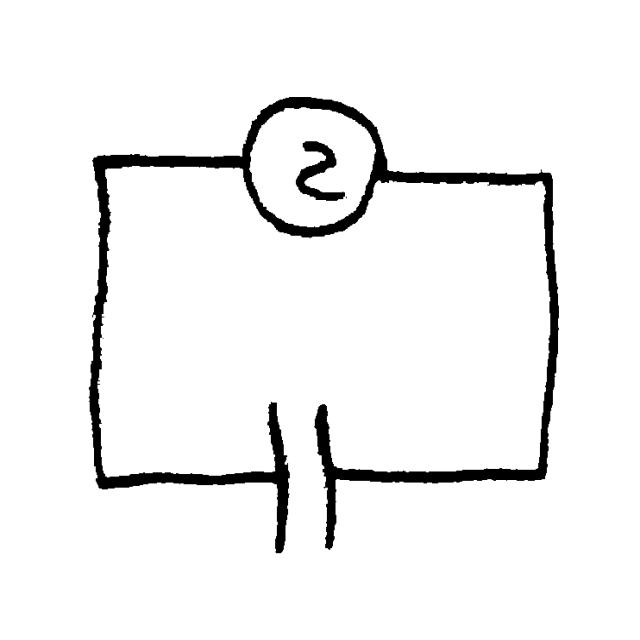ac: (228, 85, 404, 250)
capacitor: (235, 380, 360, 564)
